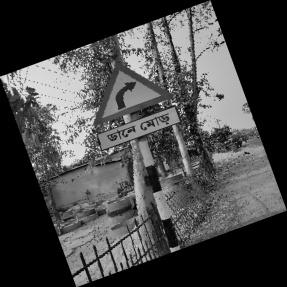Right-turn: (92, 59, 182, 154)
